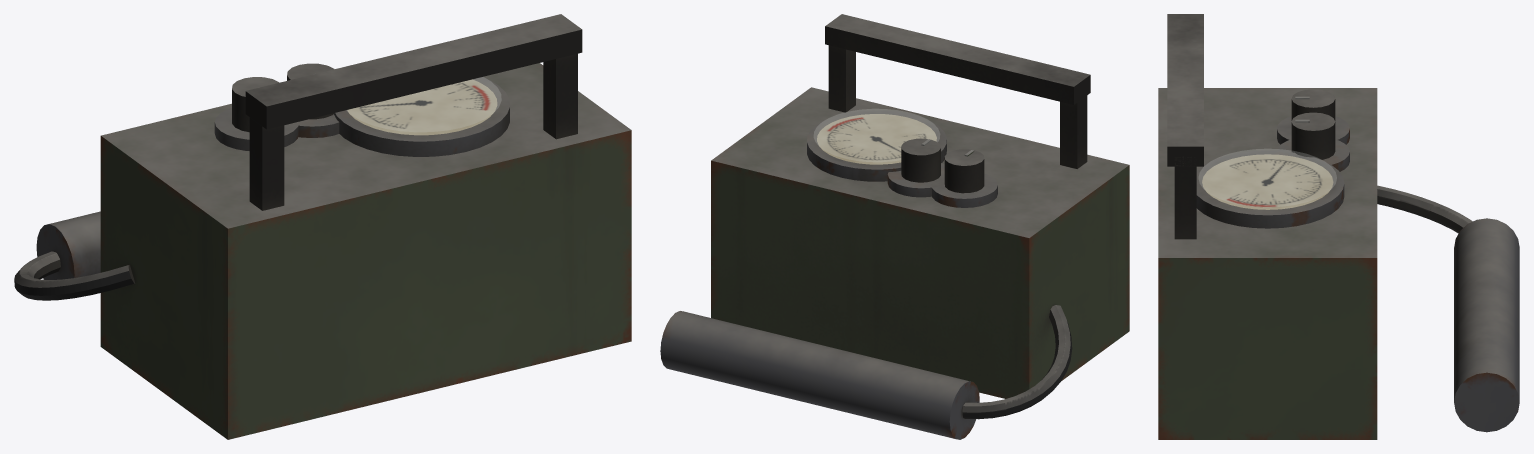
File: SM_Dosimeter_DP5.fbx
3 renders of one model, left to right at view 1: azimuth 30°, elevation 25°; view 2: azimuth 150°, elevation 25°; view 3: azimuth 270°, elevation 25°, orthographic. The views are drawn at different scales.
Visible parts, largest first — view 1: SM_Dosimeter_DP5; view 2: SM_Dosimeter_DP5; view 3: SM_Dosimeter_DP5.
Boxes of the visible parts, x1=… form: SM_Dosimeter_DP5: x1=14, y1=14, x2=631, y2=439; SM_Dosimeter_DP5: x1=660, y1=14, x2=1129, y2=439; SM_Dosimeter_DP5: x1=1158, y1=14, x2=1519, y2=439.
Bounding box in the file's own units: 0.2502 × 0.166 × 0.198.
2 materials, 1 textured.
